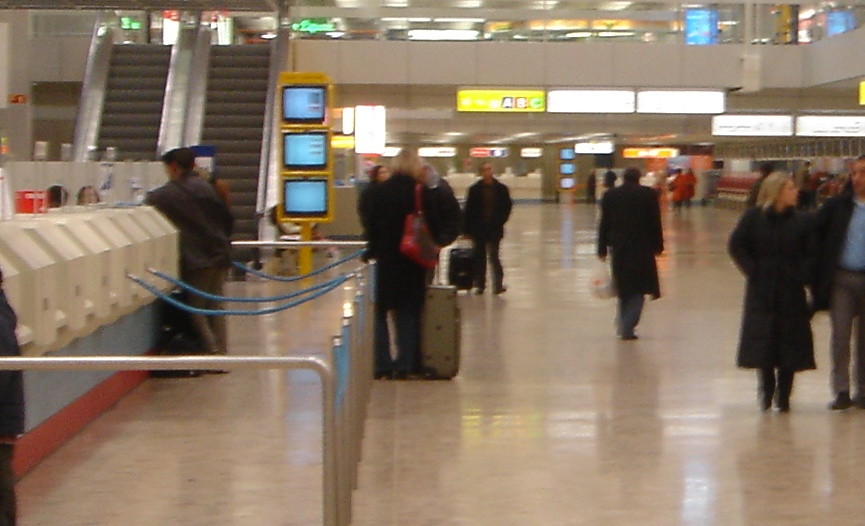person: (155, 149, 236, 373), (371, 145, 441, 380)
